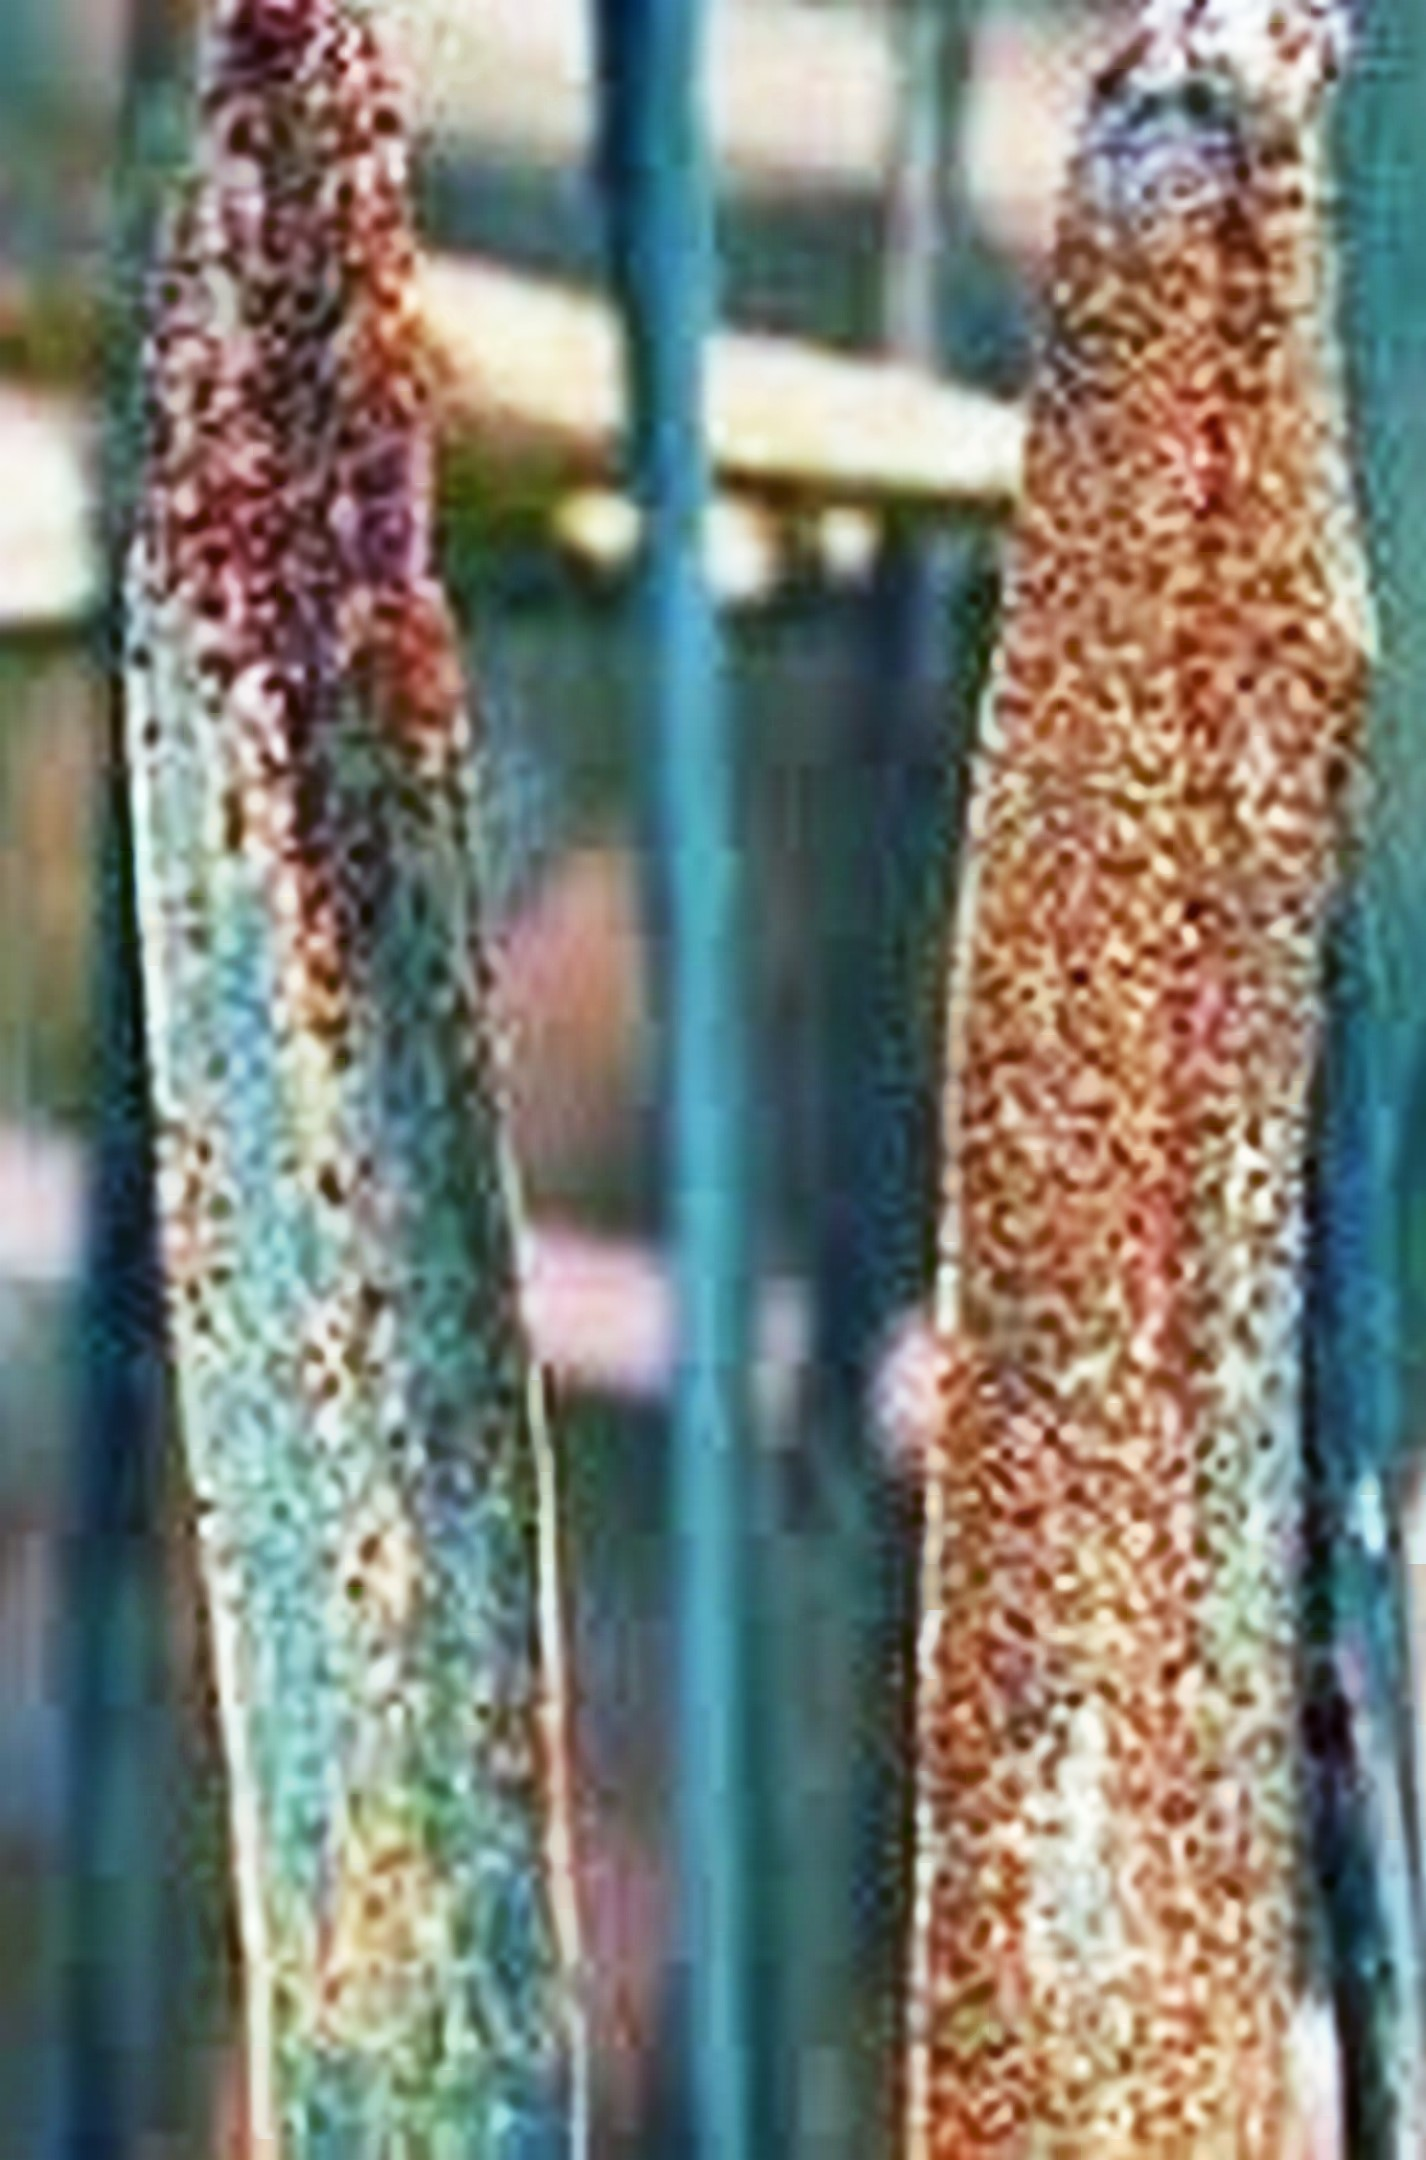Leaf Rust: (906, 282, 1366, 2068)
